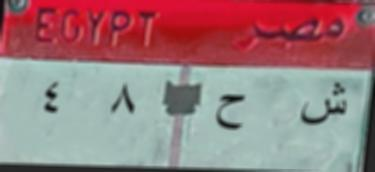4: (38, 78, 68, 123)
7aa: (211, 90, 248, 137)
8: (108, 81, 140, 124)
sheen: (294, 77, 352, 130)
